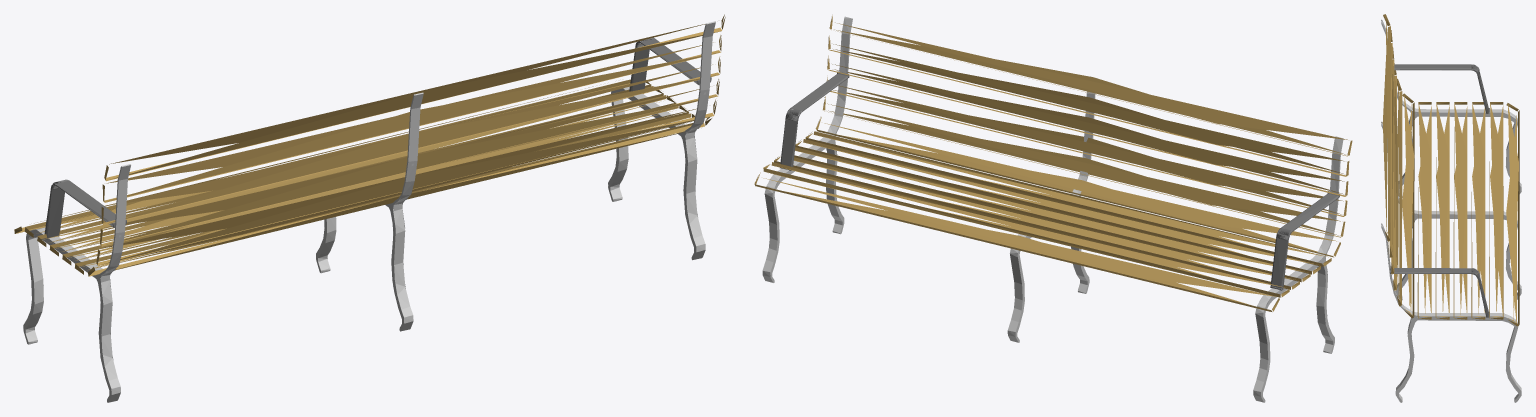
File: bench_park.fbx
The picture shows the model from 3 angles, left to right: view 1: azimuth 30°, elevation 25°; view 2: azimuth 150°, elevation 25°; view 3: azimuth 270°, elevation 25°; orthographic projection. The views are drawn at different scales.
Visible parts, largest first — view 1: Bracket_Bolt; view 2: Bracket_Bolt; view 3: Bracket_Bolt.
Part boxes in pixels (x1,y1,x2,y2): Bracket_Bolt: (14, 14, 725, 402); Bracket_Bolt: (754, 15, 1352, 402); Bracket_Bolt: (1381, 14, 1521, 402).
Bounding box in the file's own units: 1 × 0.3853 × 0.2761.
